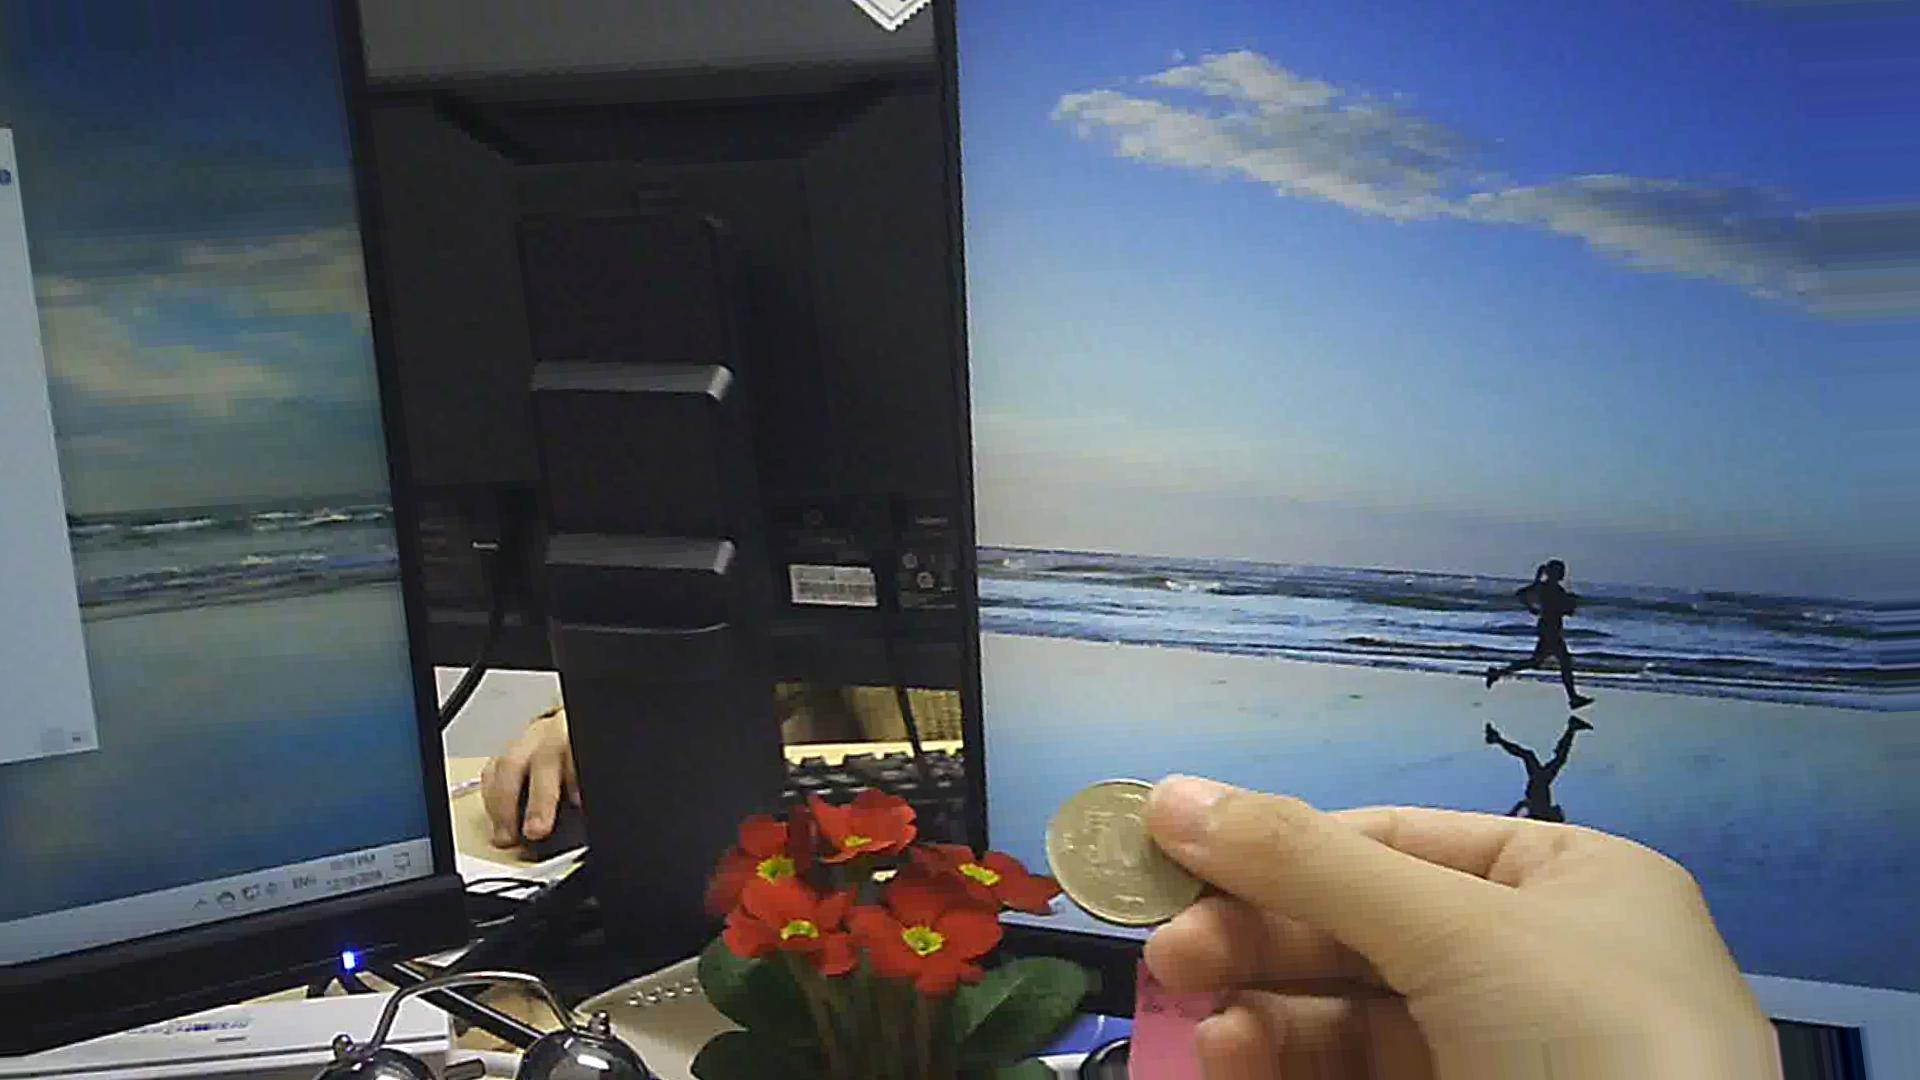500 Yen: (1046, 771, 1224, 967)
